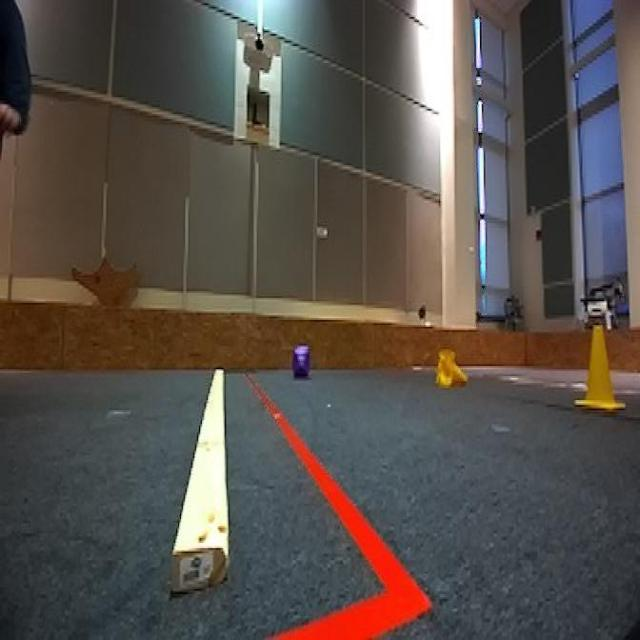frc_cone: (574, 322, 623, 410), (432, 345, 472, 390)
frc_cube: (292, 346, 312, 380)
